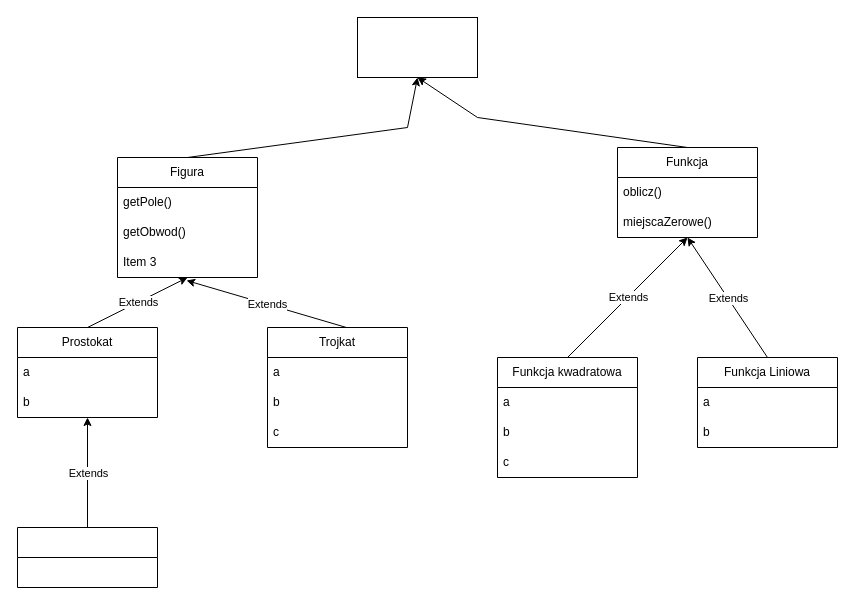
This 855x605 diagram has some shape labels left out. Here are the shapes that lost their labels. From the top down, the centre of each, then its label:
At [417,47]: "<<interface>> Save zapisDoPliku()".
At [87,557]: "Kwadrat".
